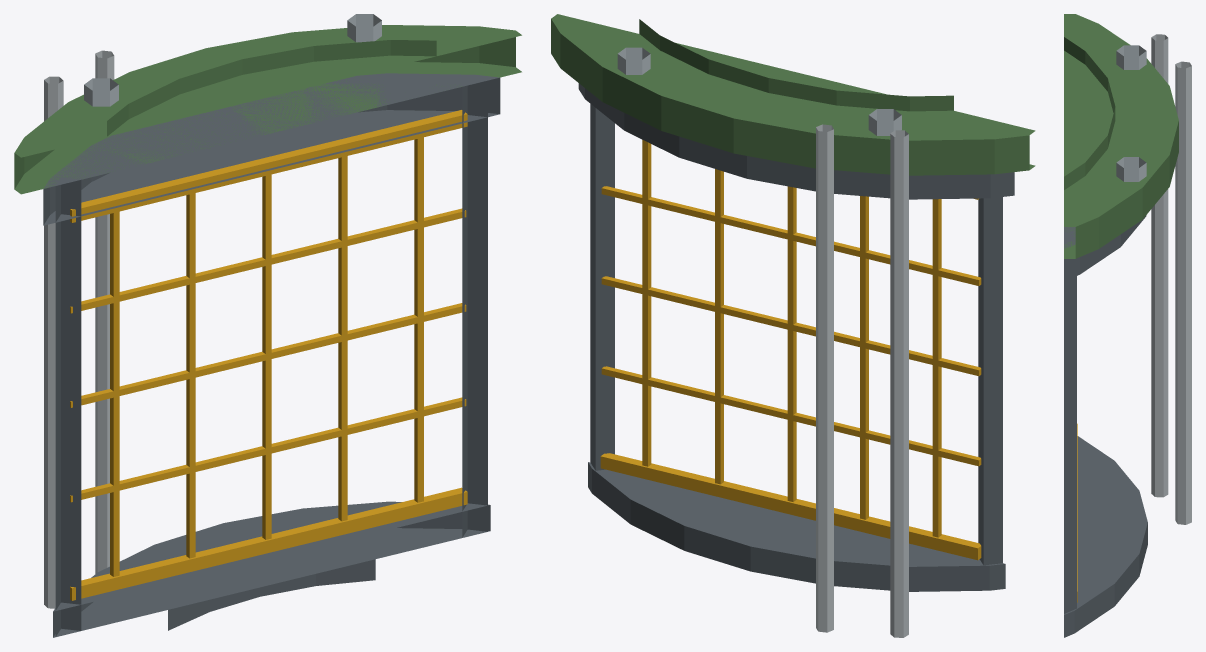
The model's file is cell_17.obj.
3 renders of one model, left to right at view 1: azimuth 30°, elevation 25°; view 2: azimuth 150°, elevation 25°; view 3: azimuth 270°, elevation 25°, orthographic. The views are drawn at different scales.
Size of the model in its own units: 1 by 1 by 0.2538.
